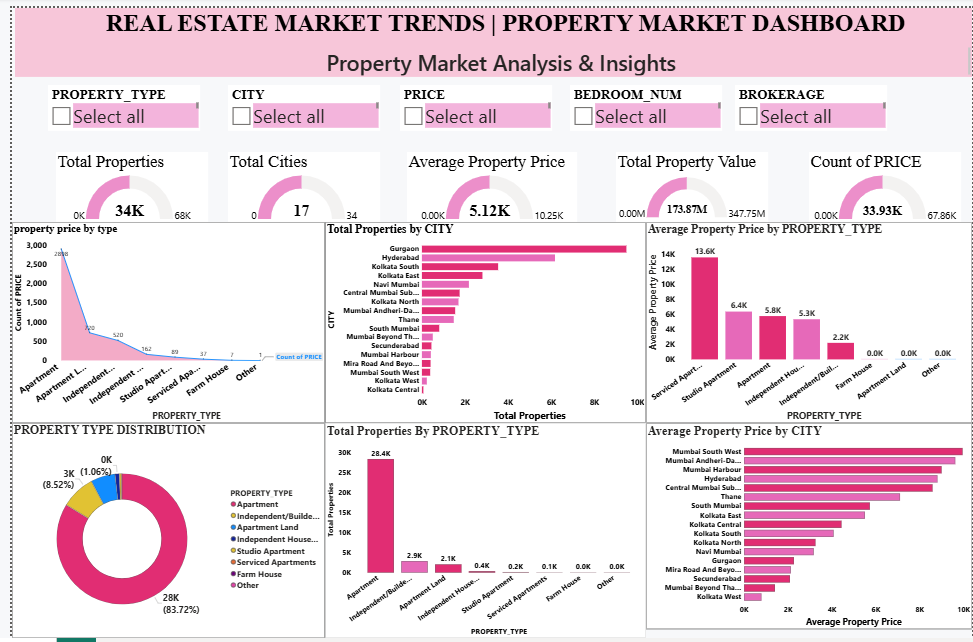

Layout of this report page (visuals, bound fields, positions):
{"tool":"powerbi","page":{"name":"Overview","canvas":[3200,2100],"ordinal":0},"visuals":[{"type":"textbox","box":[10,0,3190,126.7],"z":0},{"type":"textbox","box":[10,126.7,3190,103.3],"z":1000},{"type":"clusteredColumnChart","title":"Total Properties By PROPERTY_TYPE","fields":{"Y":["01_Combined_Data.Total Properties"],"Category":["01_Combined_Data.PROPERTY_TYPE"]},"box":[1043.3,1383.3,1070,716.7],"z":2000},{"type":"clusteredBarChart","fields":{"Category":["01_Combined_Data.CITY"],"Y":["01_Combined_Data.Average Property Price"]},"box":[2113.3,1383.3,1086.7,686.7],"z":3000},{"type":"clusteredBarChart","fields":{"Category":["01_Combined_Data.CITY"],"Y":["01_Combined_Data.Total Properties"]},"box":[1043.3,713.3,1070,670],"z":4000},{"type":"clusteredColumnChart","fields":{"Category":["01_Combined_Data.PROPERTY_TYPE"],"Y":["01_Combined_Data.Average Property Price"]},"box":[2113.3,713.3,1086.7,670],"z":5000},{"type":"donutChart","title":"PROPERTY TYPE DISTRIBUTION","fields":{"Category":["01_Combined_Data.PROPERTY_TYPE"],"Y":["01_Combined_Data.Total Properties"]},"box":[0,1383.3,1043.3,716.7],"z":6000},{"type":"lineChart","title":"property price by type","fields":{"Category":["01_Combined_Data.PROPERTY_TYPE"],"Y":["Count(01_Combined_Data.PRICE)"]},"box":[0,713.3,1043.3,670],"z":7000},{"type":"slicer","fields":{"Values":["01_Combined_Data.PROPERTY_TYPE"]},"box":[120,256.7,506.7,153.3],"z":9000},{"type":"slicer","fields":{"Values":["01_Combined_Data.CITY"]},"box":[720,256.7,506.7,153.3],"z":9001},{"type":"slicer","fields":{"Values":["01_Combined_Data.PRICE"]},"box":[1293.3,256.7,506.7,153.3],"z":9002},{"type":"slicer","fields":{"Values":["01_Combined_Data.BEDROOM_NUM"]},"box":[1860,256.7,506.7,153.3],"z":9003},{"type":"slicer","fields":{"Values":["01_Combined_Data.BROKERAGE"]},"box":[2410,256.7,506.7,153.3],"z":9004},{"type":"gauge","fields":{"Y":["01_Combined_Data.Total Properties"]},"box":[146.7,480,506.7,233.3],"z":9005},{"type":"gauge","fields":{"Y":["01_Combined_Data.Total Cities"]},"box":[720,480,506.7,233.3],"z":9006},{"type":"gauge","fields":{"Y":["01_Combined_Data.Average Property Price"]},"box":[1316.7,480,566.7,233.3],"z":9007},{"type":"gauge","fields":{"Y":["01_Combined_Data.Total Property Value"]},"box":[2013.3,480,506.7,233.3],"z":9008},{"type":"gauge","fields":{"Y":["CountNonNull(01_Combined_Data.PRICE)"]},"box":[2656.7,480,506.7,233.3],"z":9009}]}

Visuals, with their boxes in screenshot pixels (x1, y1, x2, y2), scaled from the page's 3200x2100 canvas onto the 973x642 screenshot:
textbox: select_region(3, 0, 972, 39)
textbox: select_region(3, 39, 972, 70)
"Total Properties By PROPERTY_TYPE" clusteredColumnChart: select_region(317, 423, 643, 641)
clusteredBarChart - 01_Combined_Data.CITY x 01_Combined_Data.Average Property Price: select_region(643, 423, 972, 633)
clusteredBarChart - 01_Combined_Data.CITY x 01_Combined_Data.Total Properties: select_region(317, 218, 643, 423)
clusteredColumnChart - 01_Combined_Data.PROPERTY_TYPE x 01_Combined_Data.Average Property Price: select_region(643, 218, 972, 423)
"PROPERTY TYPE DISTRIBUTION" donutChart: select_region(0, 423, 317, 641)
"property price by type" lineChart: select_region(0, 218, 317, 423)
slicer - 01_Combined_Data.PROPERTY_TYPE: select_region(36, 78, 191, 125)
slicer - 01_Combined_Data.CITY: select_region(219, 78, 373, 125)
slicer - 01_Combined_Data.PRICE: select_region(393, 78, 547, 125)
slicer - 01_Combined_Data.BEDROOM_NUM: select_region(566, 78, 720, 125)
slicer - 01_Combined_Data.BROKERAGE: select_region(733, 78, 887, 125)
gauge - 01_Combined_Data.Total Properties: select_region(45, 147, 199, 218)
gauge - 01_Combined_Data.Total Cities: select_region(219, 147, 373, 218)
gauge - 01_Combined_Data.Average Property Price: select_region(400, 147, 573, 218)
gauge - 01_Combined_Data.Total Property Value: select_region(612, 147, 766, 218)
gauge - CountNonNull(01_Combined_Data.PRICE): select_region(808, 147, 962, 218)
